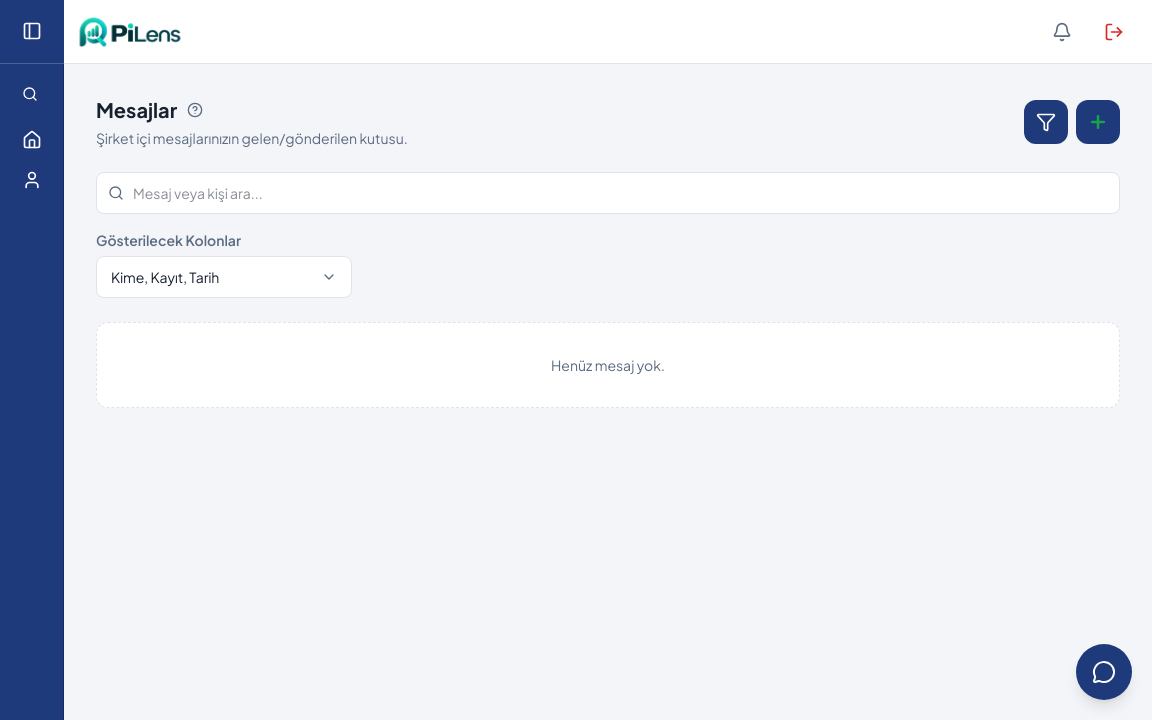
Test case: MessagesListPage › filtre butonuna tiklayinca cekmece acilir
Click the button named "Filtrele" at (1046, 122), box [1024,100,1068,144]
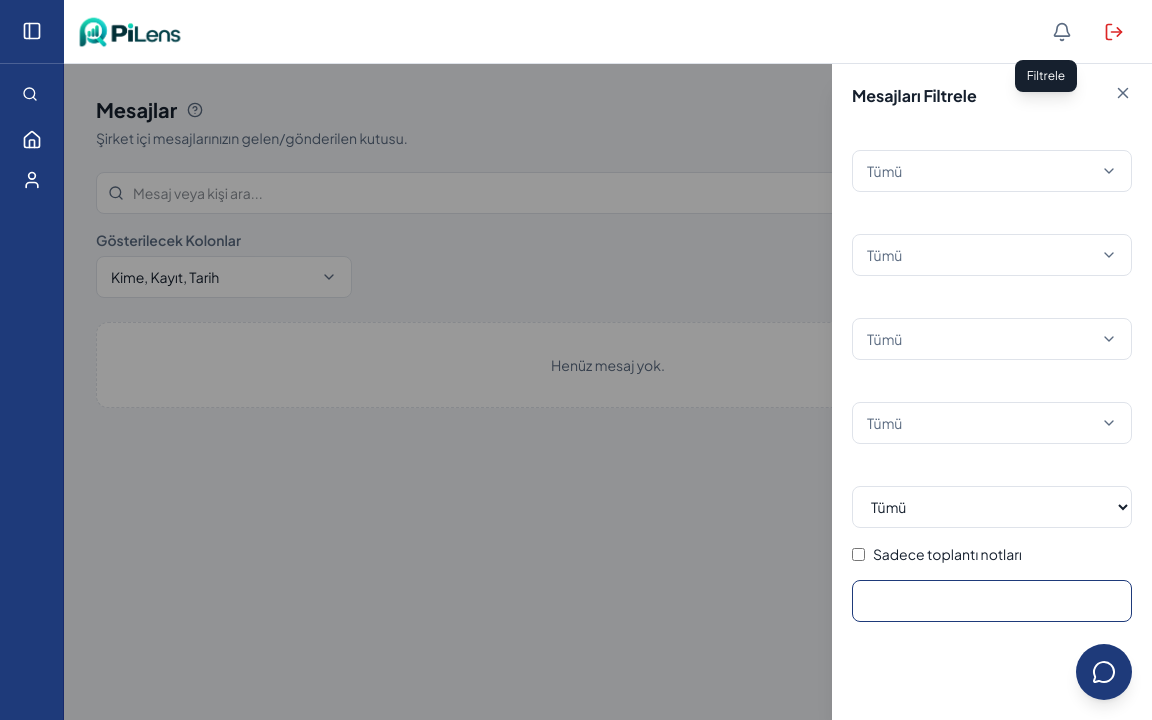
Expected: the dialog "Mesajları Filtrele" is shown, [832,64,1151,719]
